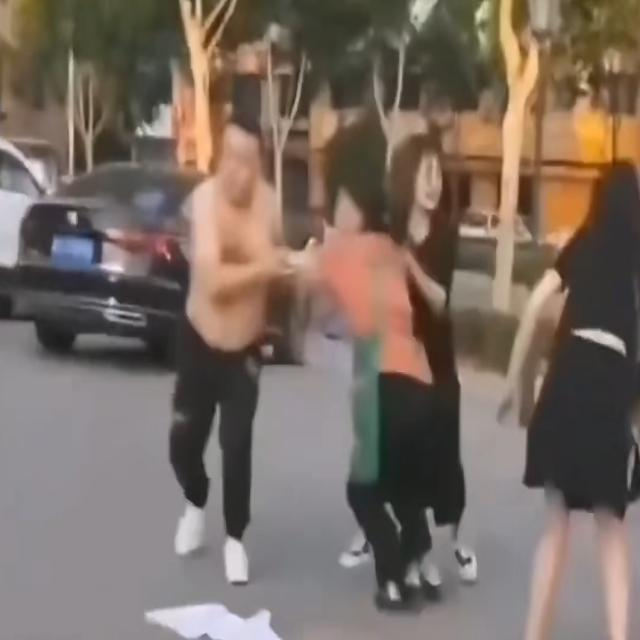fight: (195, 112, 462, 353)
nofight: (528, 143, 640, 640)
